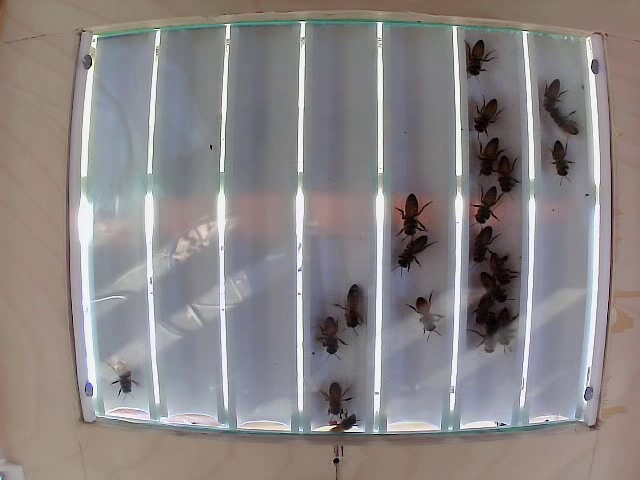bee: (110, 357, 150, 413), (313, 379, 357, 421), (395, 187, 428, 239), (416, 297, 452, 343), (343, 284, 374, 337), (312, 315, 346, 362), (546, 104, 580, 144), (466, 221, 496, 263), (479, 309, 505, 356), (478, 269, 506, 311), (397, 235, 430, 270), (546, 138, 574, 179), (499, 309, 523, 353), (490, 255, 519, 291), (470, 283, 493, 324), (495, 156, 516, 194), (476, 182, 492, 229), (474, 100, 494, 137), (476, 142, 496, 177), (544, 78, 561, 116), (469, 39, 486, 74)
